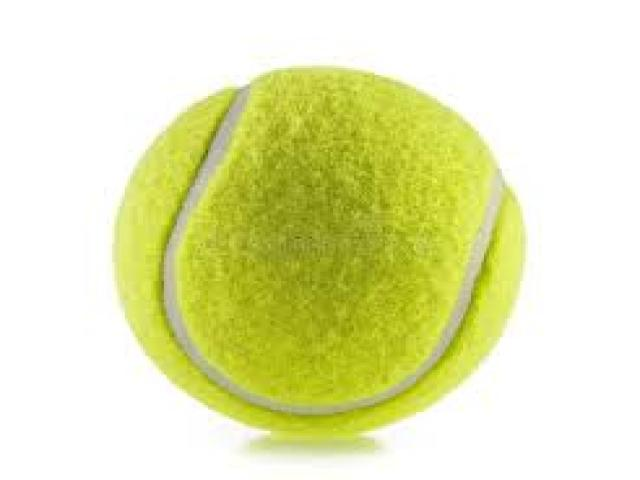tennis-ball: (112, 65, 531, 440)
